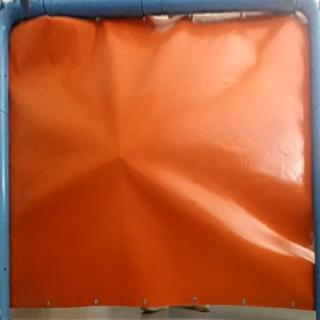Hit-hRxx: (112, 148, 128, 164)
